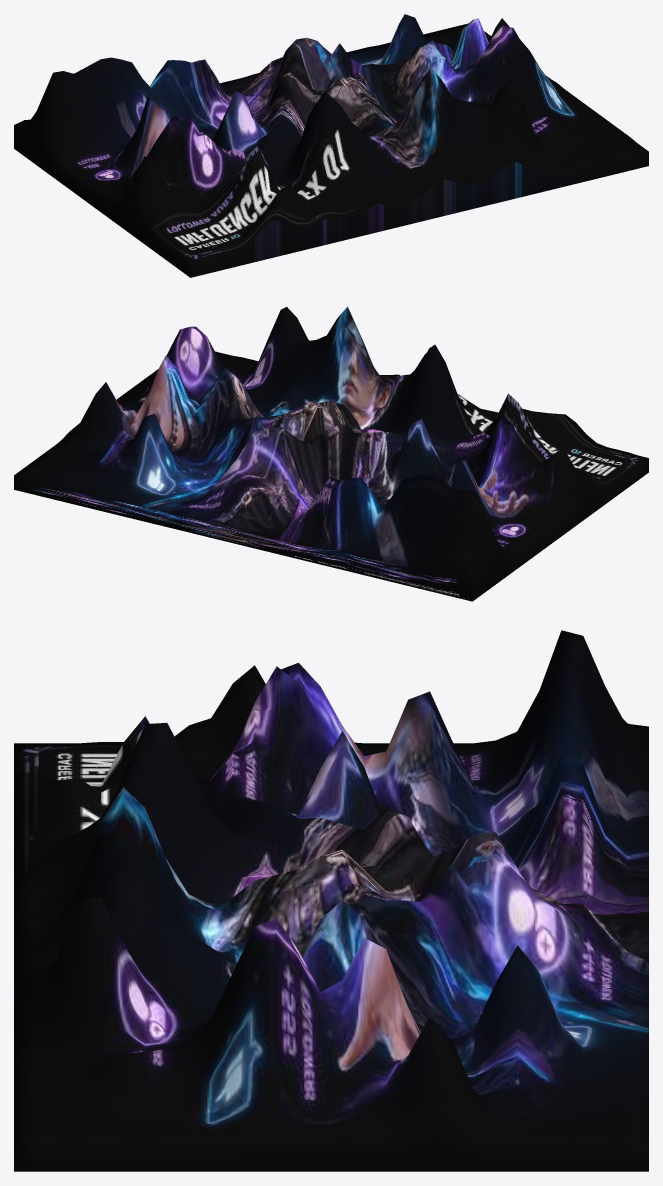
The model's file is CAREER_10_VFX_01_Follower_Aura.glb.
3 views of the same model, one above another, from view 1: azimuth 30°, elevation 25°; view 2: azimuth 150°, elevation 25°; view 3: azimuth 270°, elevation 25° (orthographic). The views are drawn at different scales.
Visible parts, largest first — view 1: CAREER_10_VFX_01_Follower_Aura; view 2: CAREER_10_VFX_01_Follower_Aura; view 3: CAREER_10_VFX_01_Follower_Aura.
Part boxes in pixels (bbox=[...]): CAREER_10_VFX_01_Follower_Aura: bbox=[14, 14, 648, 277]; CAREER_10_VFX_01_Follower_Aura: bbox=[14, 306, 648, 601]; CAREER_10_VFX_01_Follower_Aura: bbox=[14, 630, 648, 1171].
Size of the model in its own units: 2 by 0.51 by 1.33.
1 material, 1 textured.
